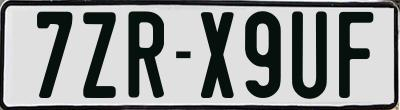7: (37, 9, 77, 98)
9: (242, 8, 282, 100)
F: (339, 12, 379, 101)
R: (128, 9, 167, 102)
U: (290, 9, 331, 102)
X: (200, 10, 239, 99)
Z: (82, 9, 120, 101)
